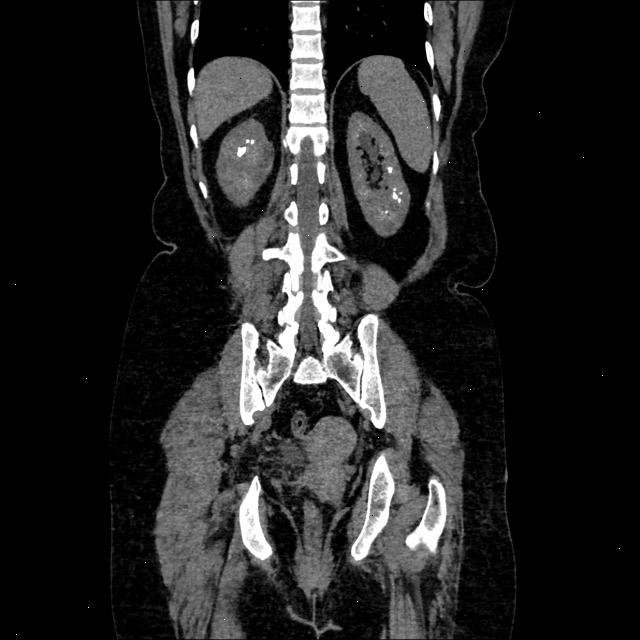kidneystone: (238, 147, 246, 157), (246, 139, 251, 144)
